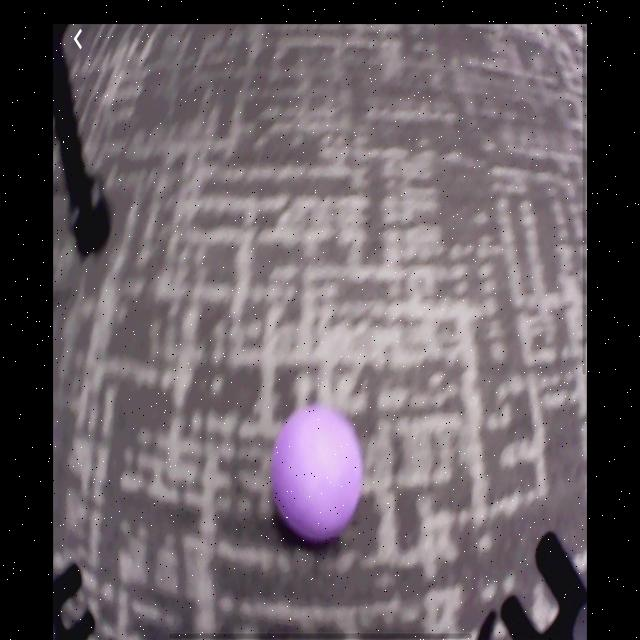ball: (271, 406, 365, 546)
